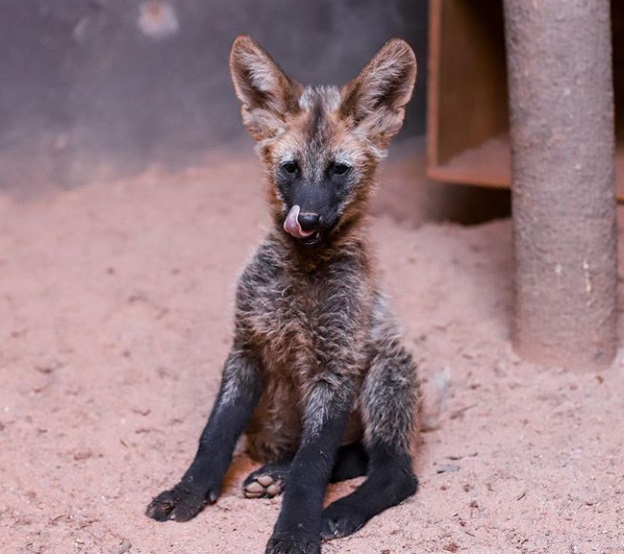LoboGuara: (144, 33, 436, 544)
